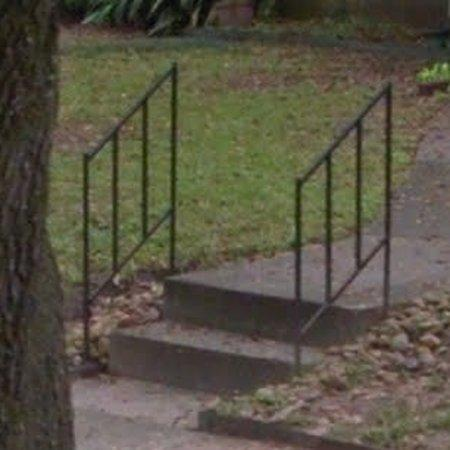stairs: (110, 252, 295, 392), (303, 249, 383, 365), (301, 245, 325, 325), (392, 238, 416, 303)
